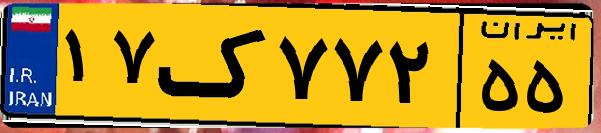1: (57, 26, 110, 100)
2: (385, 28, 445, 110)
5: (475, 38, 525, 113), (525, 38, 570, 115)
7: (270, 28, 330, 110), (330, 28, 385, 110), (110, 28, 158, 98)
ک: (158, 12, 270, 120)
